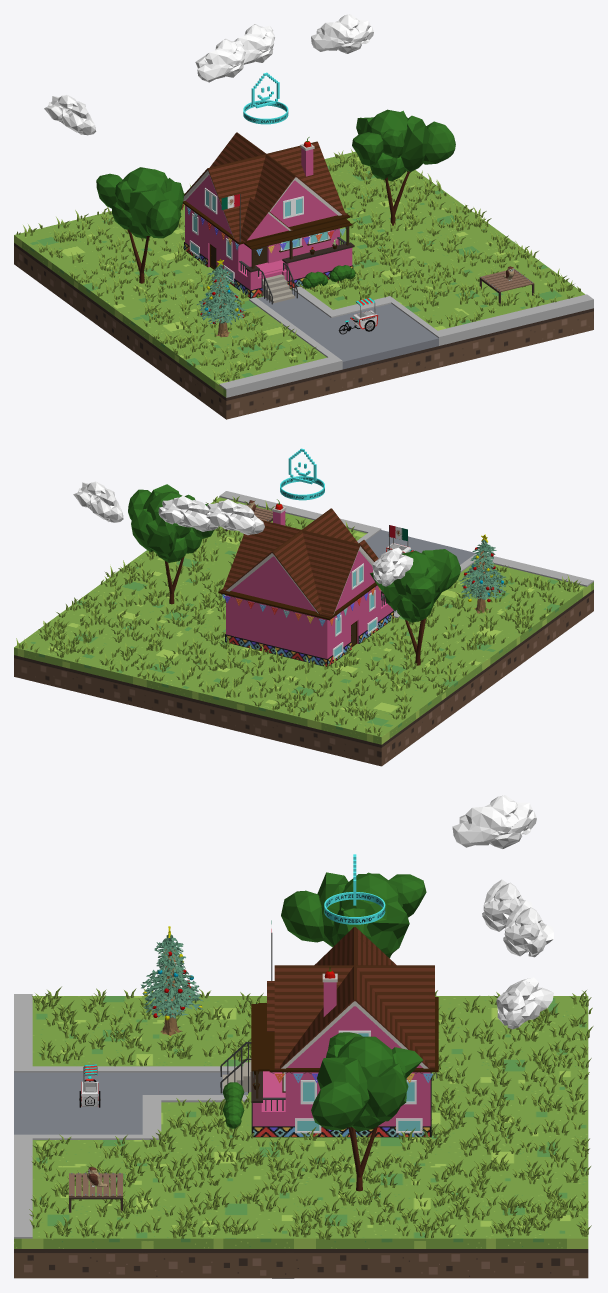
The picture shows the model from 3 angles, top to bottom: view 1: azimuth 30°, elevation 25°; view 2: azimuth 150°, elevation 25°; view 3: azimuth 270°, elevation 25°; orthographic projection. The views are drawn at different scales.
Parts seen in each view (by area): view 1: Cube.006, Cube.1005, Circle.012_Grass_0.192, Cube.007, tree, tree.001, OBJRANDOM_CHRISTMAS_TREE, TYPE_PREMIUM, Cube.009, VEHICLES_SNOWBAL_BIKE; view 2: Cube.006, Cube.1005, Circle.012_Grass_0.192, Cube.007, tree.001, tree, OBJRANDOM_CHRISTMAS_TREE, TYPE_PREMIUM; view 3: Cube.006, Circle.012_Grass_0.192, Cube.1005, tree, Cube.007, tree.001, OBJRANDOM_CHRISTMAS_TREE, Cube.009, TYPE_PREMIUM, VEHICLES_SNOWBAL_BIKE.
Boxes of the visible parts, <box> form: Cube.006: <box>14,151,593,419</box>; Cube.1005: <box>181,132,354,304</box>; Circle.012_Grass_0.192: <box>16,149,580,381</box>; Cube.007: <box>44,14,373,135</box>; tree: <box>352,109,455,225</box>; tree.001: <box>96,167,184,283</box>; OBJRANDOM_CHRISTMAS_TREE: <box>197,259,246,337</box>; TYPE_PREMIUM: <box>243,72,288,124</box>; Cube.009: <box>479,268,534,303</box>; VEHICLES_SNOWBAL_BIKE: <box>338,297,378,334</box>; Cube.006: <box>14,491,593,766</box>; Cube.1005: <box>218,499,407,666</box>; Circle.012_Grass_0.192: <box>16,496,580,736</box>; Cube.007: <box>73,481,413,586</box>; tree.001: <box>370,549,460,665</box>; tree: <box>128,484,214,604</box>; OBJRANDOM_CHRISTMAS_TREE: <box>459,534,505,613</box>; TYPE_PREMIUM: <box>280,448,324,500</box>; Cube.006: <box>14,994,588,1278</box>; Circle.012_Grass_0.192: <box>29,986,593,1239</box>; Cube.1005: <box>220,920,438,1137</box>; tree: <box>311,1032,423,1191</box>; Cube.007: <box>452,795,553,1029</box>; tree.001: <box>281,872,426,958</box>; OBJRANDOM_CHRISTMAS_TREE: <box>141,926,203,1036</box>; Cube.009: <box>69,1172,122,1212</box>; TYPE_PREMIUM: <box>324,854,385,924</box>; VEHICLES_SNOWBAL_BIKE: <box>79,1064,100,1107</box>.
Size of the model in its own units: 4071 by 2308 by 4040.
Materials: 73 (6 with a texture image).
